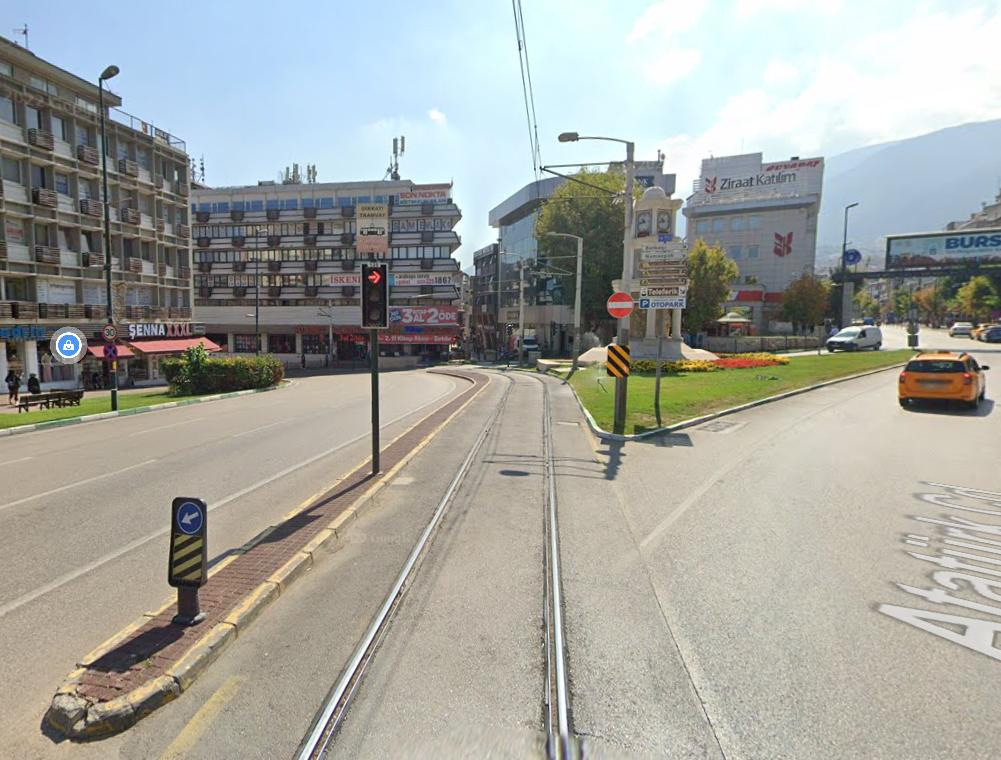redlight: (357, 258, 394, 331)
